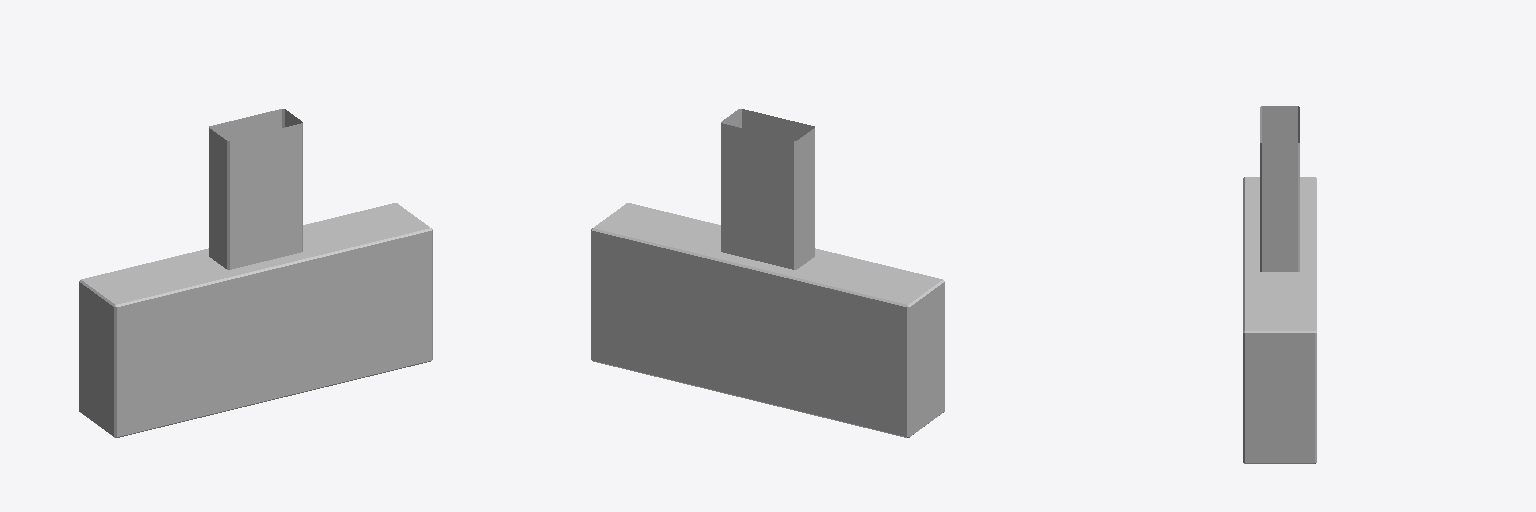
File: hor2 exitsign.obj
3 renders of one model, left to right at view 1: azimuth 30°, elevation 25°; view 2: azimuth 150°, elevation 25°; view 3: azimuth 270°, elevation 25°, orthographic.
Visible parts, largest first — view 1: Plane.024_Plane.020; view 2: Plane.024_Plane.020; view 3: Plane.024_Plane.020.
Boxes of the visible parts, x1,y1,x2,y2 form: Plane.024_Plane.020: [79, 109, 432, 437]; Plane.024_Plane.020: [591, 109, 944, 437]; Plane.024_Plane.020: [1243, 106, 1316, 463].
Bounding box in the file's own units: 0.5 × 0.3933 × 0.1.